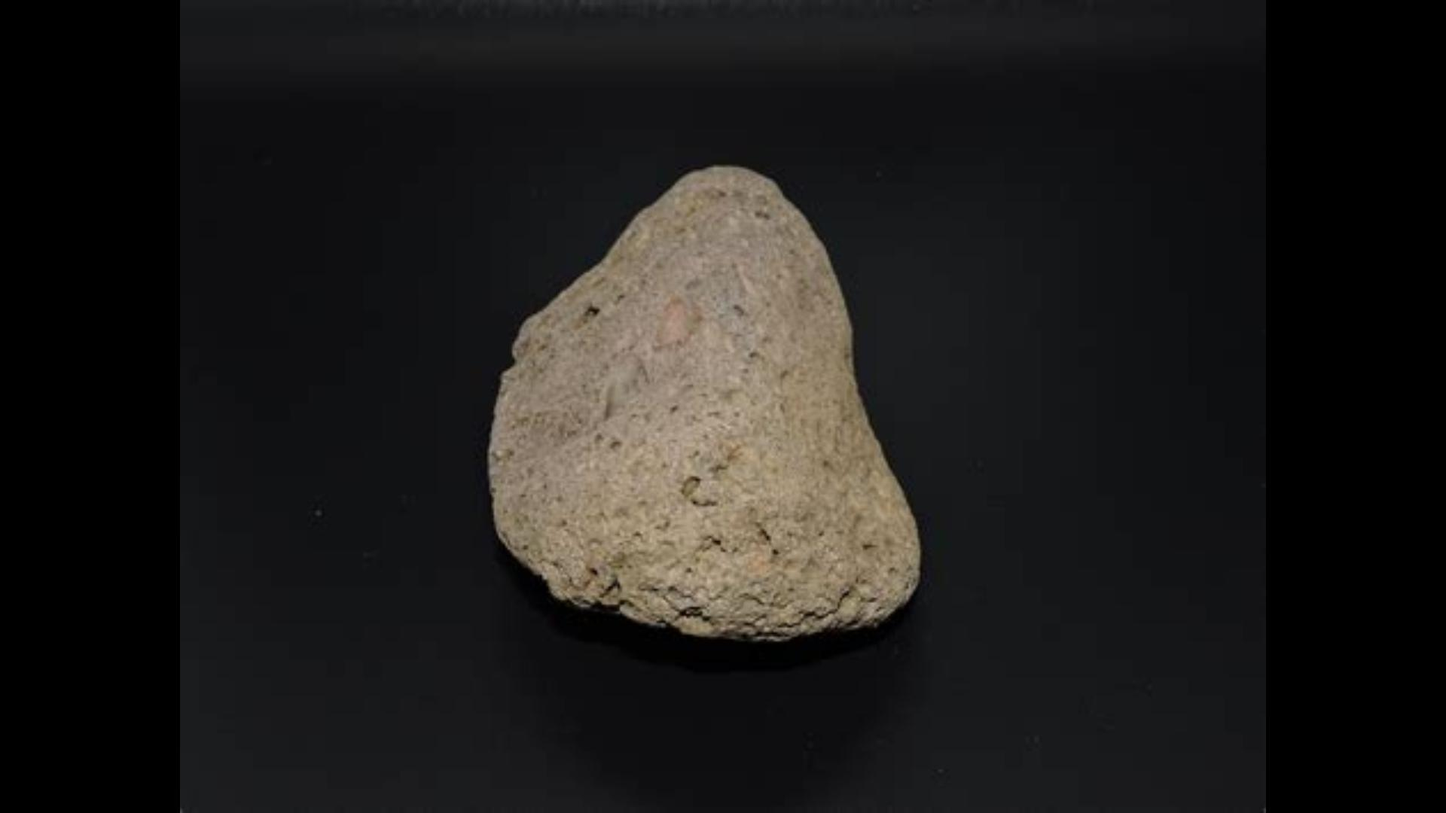rock: (489, 167, 918, 637)
